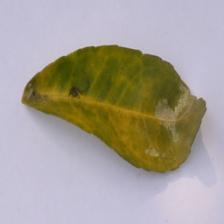greening: (94, 94, 150, 142)
